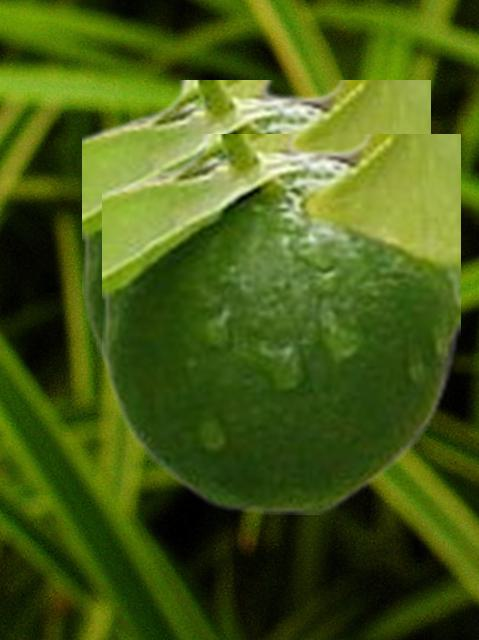dalandan: (102, 134, 459, 513), (82, 80, 429, 375)
